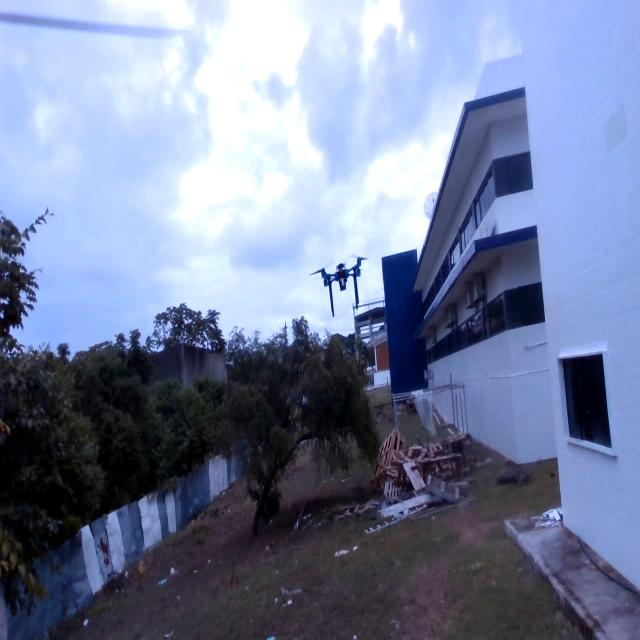-uav-: (306, 249, 375, 326)
